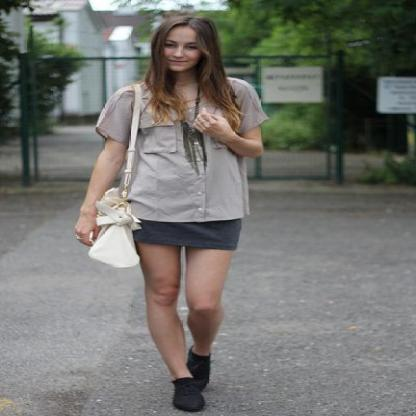bag: (89, 110, 142, 267)
shirt: (97, 77, 271, 221)
shoe: (172, 351, 210, 412)
skirt: (132, 218, 240, 258)
